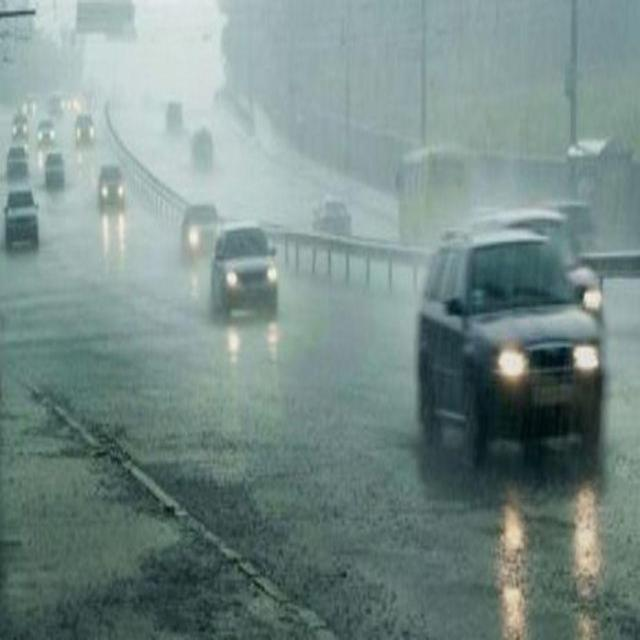Bus: (386, 136, 469, 244)
Car: (412, 234, 612, 448), (485, 199, 608, 330), (214, 212, 280, 326), (179, 200, 223, 262), (2, 190, 40, 258), (92, 149, 128, 217), (310, 183, 351, 240), (190, 111, 217, 177), (47, 142, 74, 194), (159, 88, 185, 140), (72, 108, 96, 151), (6, 142, 28, 188), (36, 111, 58, 154), (9, 106, 27, 142)
